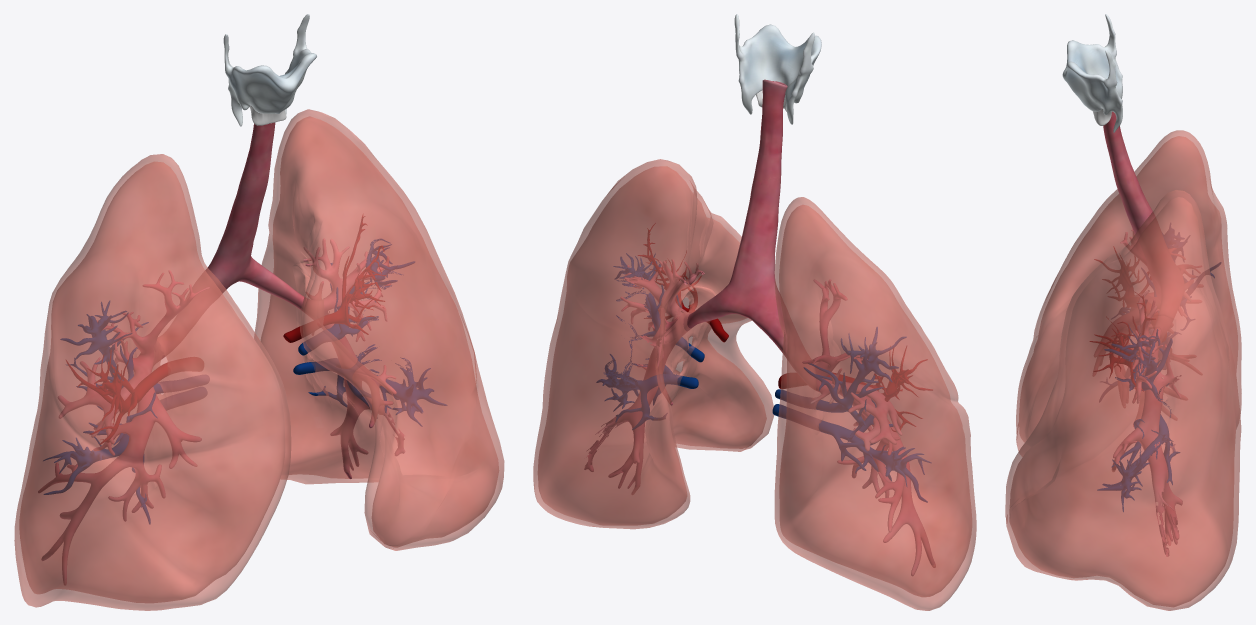
The model's file is Lung-Transparent.glb.
3 renders of one model, left to right at view 1: azimuth 30°, elevation 25°; view 2: azimuth 150°, elevation 25°; view 3: azimuth 270°, elevation 25°, orthographic. The views are drawn at different scales.
Parts seen in each view (by area): view 1: LeftLung, RightLung, Trachea, PulmonaryVeins, ThyroidCartilage, PulmonaryArteries; view 2: LeftLung, RightLung, Trachea, PulmonaryVeins, ThyroidCartilage, PulmonaryArteries; view 3: RightLung, LeftLung, Trachea, ThyroidCartilage, PulmonaryVeins, PulmonaryArteries.
Boxes of the visible parts, x1,y1,x2,y2 form: LeftLung: (14, 154, 291, 610); RightLung: (254, 109, 504, 550); Trachea: (38, 122, 405, 584); PulmonaryVeins: (43, 239, 447, 524); ThyroidCartilage: (223, 14, 316, 126); PulmonaryArteries: (66, 215, 385, 444); LeftLung: (774, 197, 976, 610); RightLung: (533, 159, 774, 529); Trachea: (584, 79, 935, 575); PulmonaryVeins: (596, 253, 931, 502); ThyroidCartilage: (734, 14, 821, 124); PulmonaryArteries: (638, 223, 932, 431); RightLung: (1005, 190, 1241, 610); LeftLung: (1016, 130, 1241, 456); Trachea: (1103, 111, 1182, 556); ThyroidCartilage: (1062, 14, 1122, 132); PulmonaryVeins: (1097, 262, 1221, 511); PulmonaryArteries: (1090, 246, 1156, 391).
Bounding box in the file's own units: 11.53 × 13.65 × 5.82.
7 materials, 7 textured.
